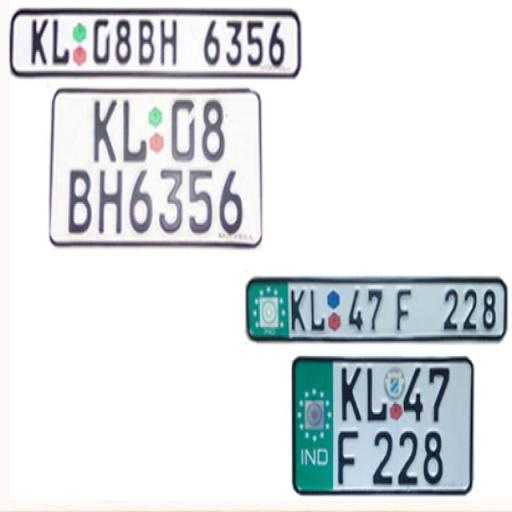number plate: (47, 82, 266, 252), (290, 354, 490, 493), (2, 6, 306, 88), (249, 279, 507, 336)
